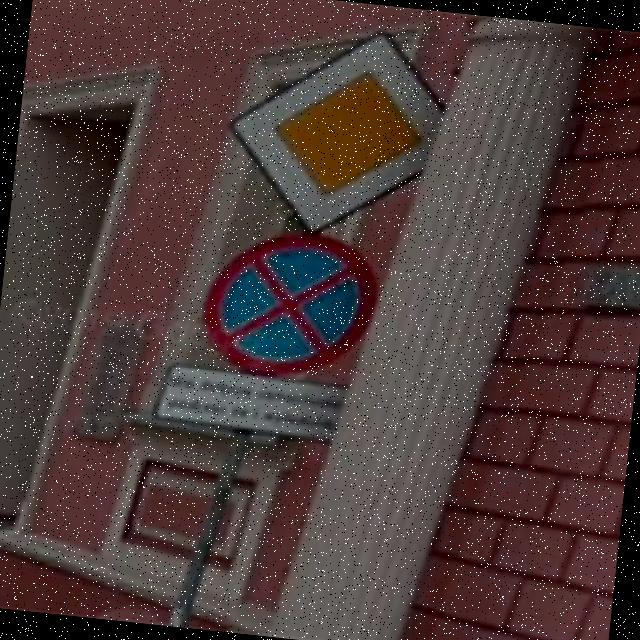Droga z pierwszenstwem: (212, 12, 454, 246)
Zakaz zatrzymywania sie: (195, 224, 383, 386)
